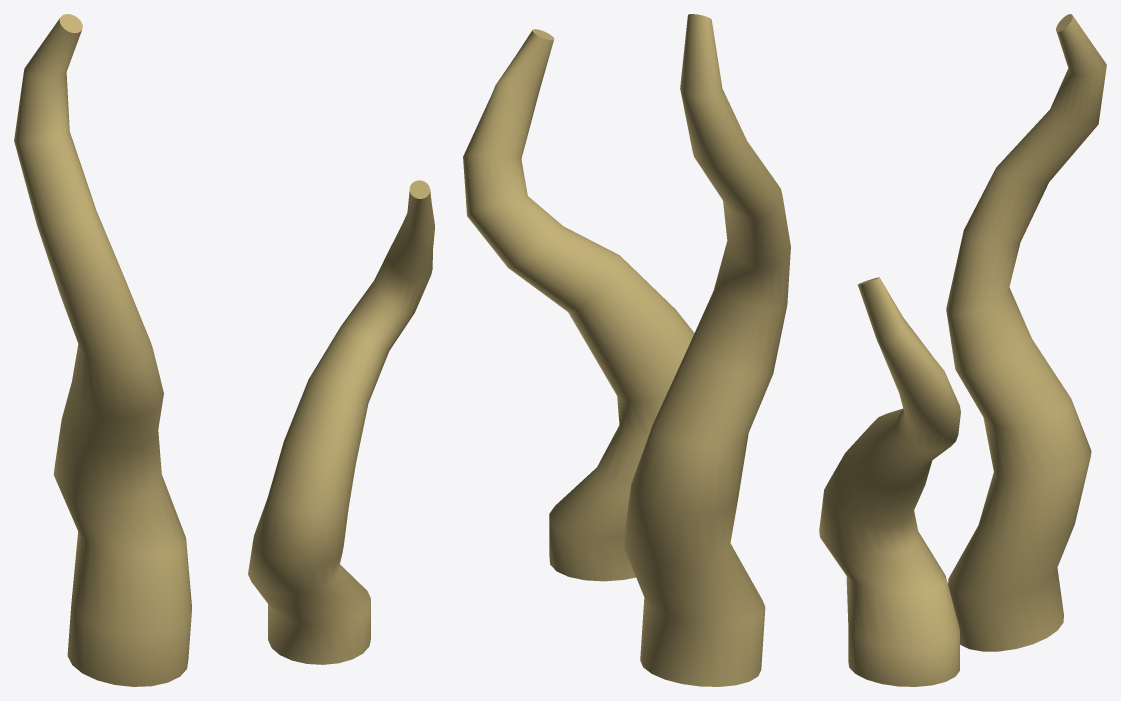
File: mesh_plantstage01_var02.fbx
The picture shows the model from 3 angles, left to right: view 1: azimuth 30°, elevation 25°; view 2: azimuth 150°, elevation 25°; view 3: azimuth 270°, elevation 25°; orthographic projection. The views are drawn at different scales.
Visible parts, largest first — view 1: mesh_plantstage01_var02; view 2: mesh_plantstage01_var02; view 3: mesh_plantstage01_var02.
Boxes of the visible parts, <box> form: mesh_plantstage01_var02: <box>14,14,434,686</box>; mesh_plantstage01_var02: <box>463,14,790,686</box>; mesh_plantstage01_var02: <box>819,14,1106,686</box>.
Bounding box in the file's own units: 0.3083 × 0.5533 × 0.2391.
